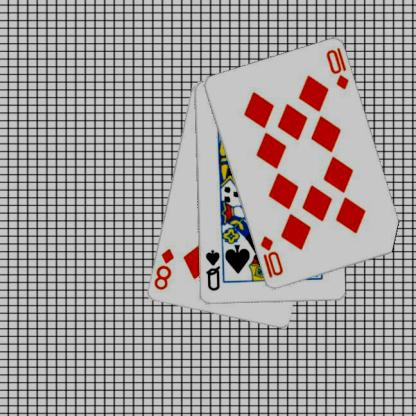10D: (325, 45, 352, 92), (260, 234, 286, 279)
8D: (152, 246, 176, 291)
QS: (204, 247, 223, 292)
